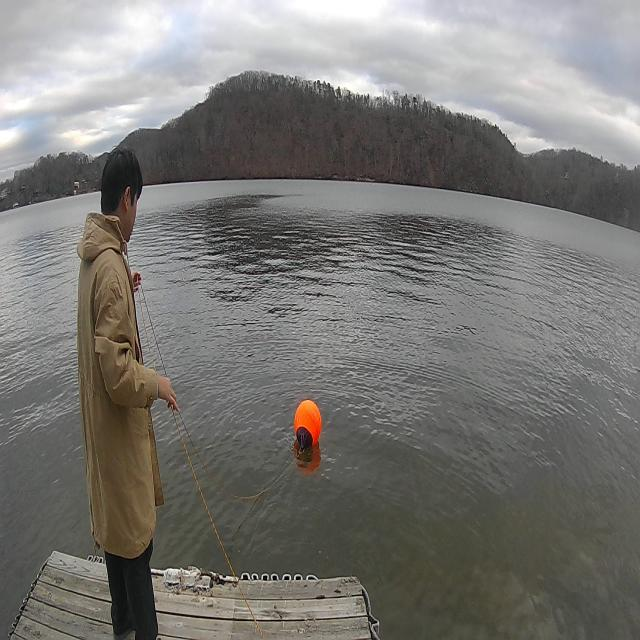Buoy: (293, 396, 325, 462)
